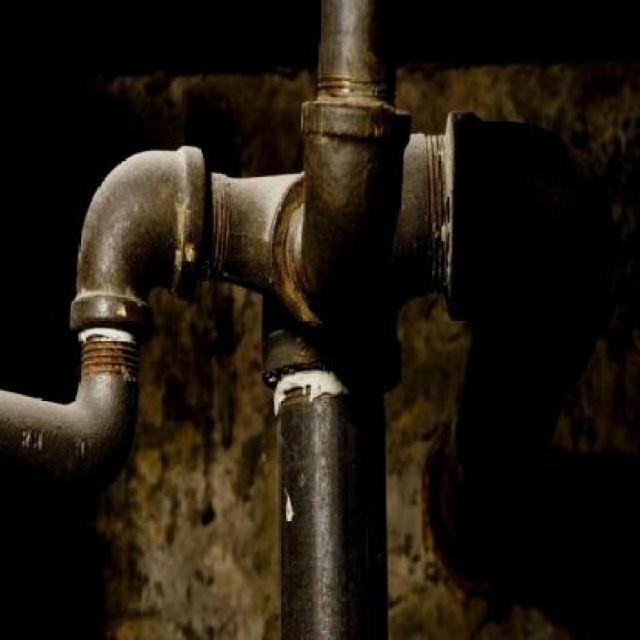corrosion: (2, 1, 449, 640)
